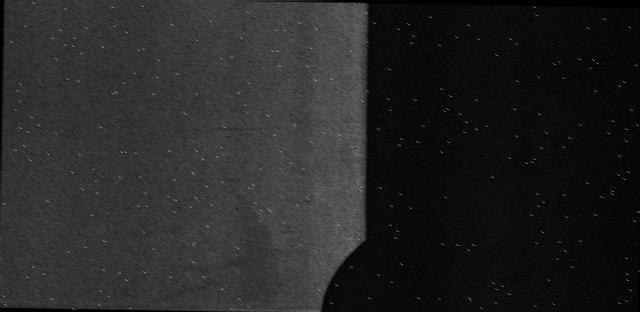welding_line: (0, 287, 331, 312)
